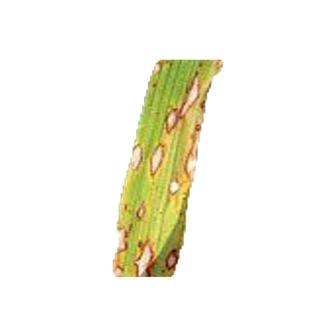Blast: (111, 195, 155, 278), (170, 121, 208, 198), (152, 108, 180, 182), (173, 67, 203, 127), (123, 132, 148, 186), (161, 233, 185, 285), (148, 60, 167, 90)
